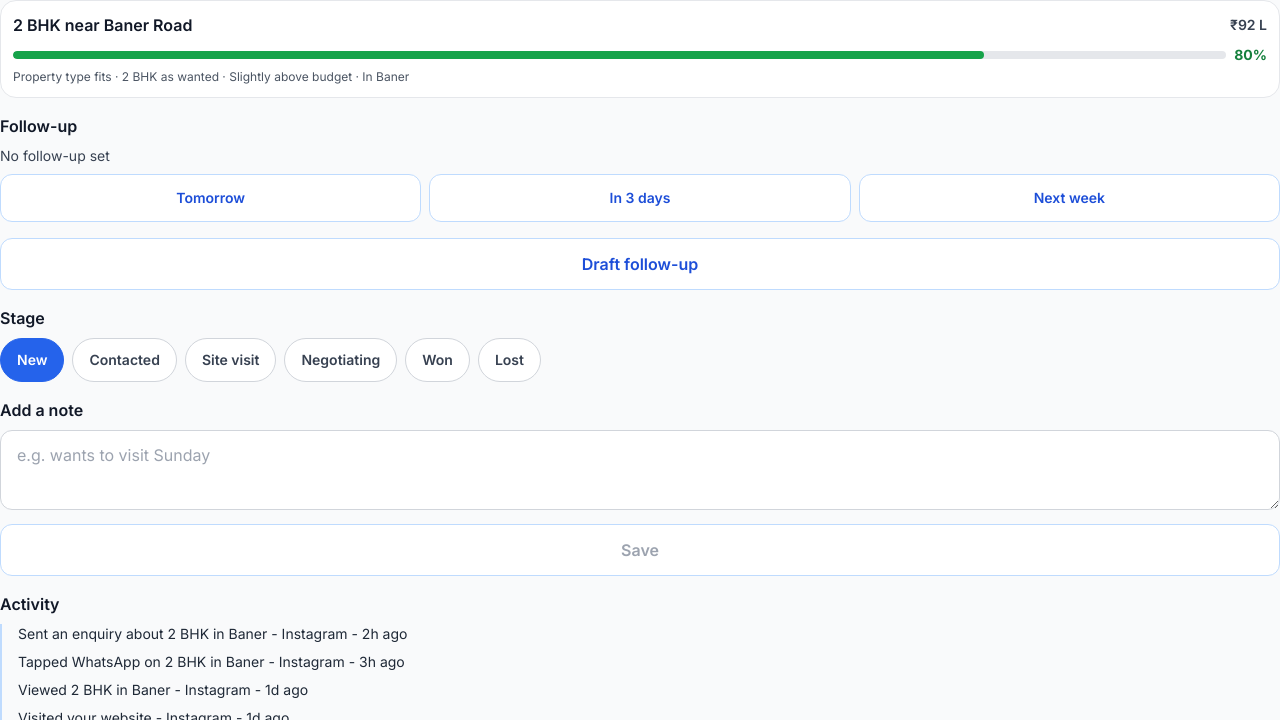
Test case: Deal closed sheet (stage Won) › dismissing (backdrop, Escape) does not change the stage
The image size is (1280, 720).
(page scrolled)
Click the button "Won" at (438, 360), box [405, 338, 470, 382]
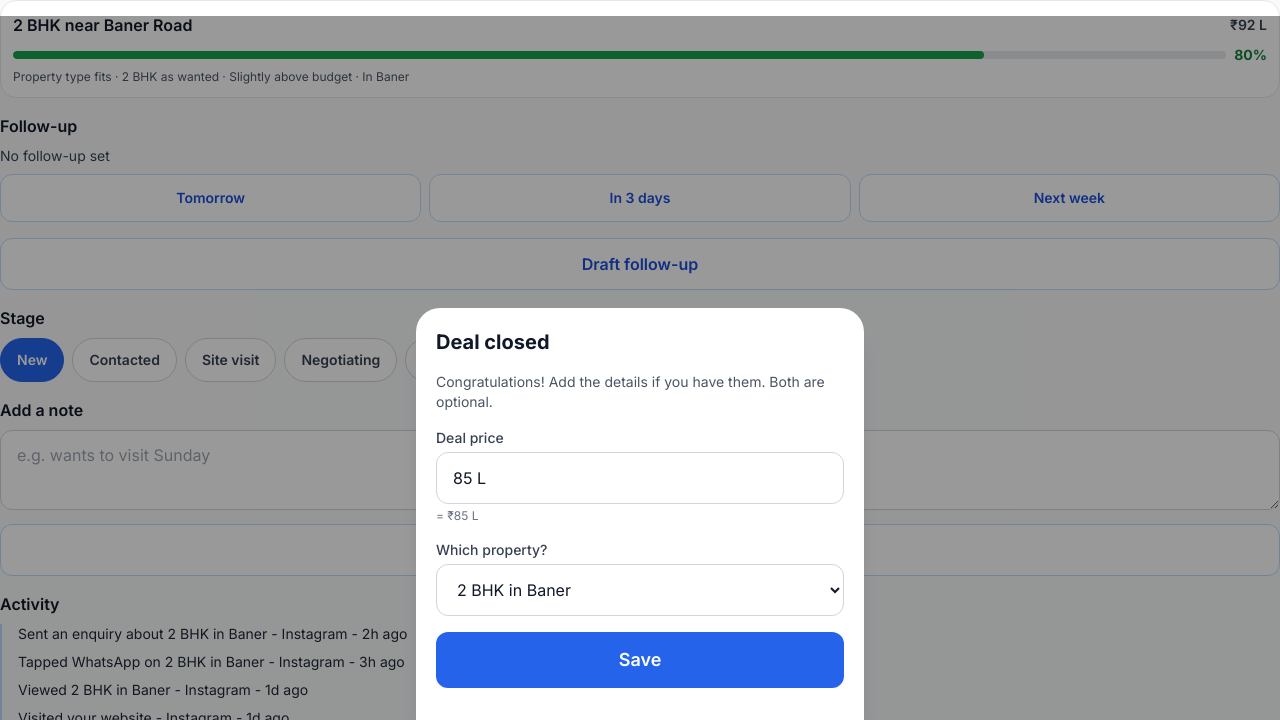
Click the button with test id "sheet-backdrop" at (77, 368), box [0, 16, 1279, 719]
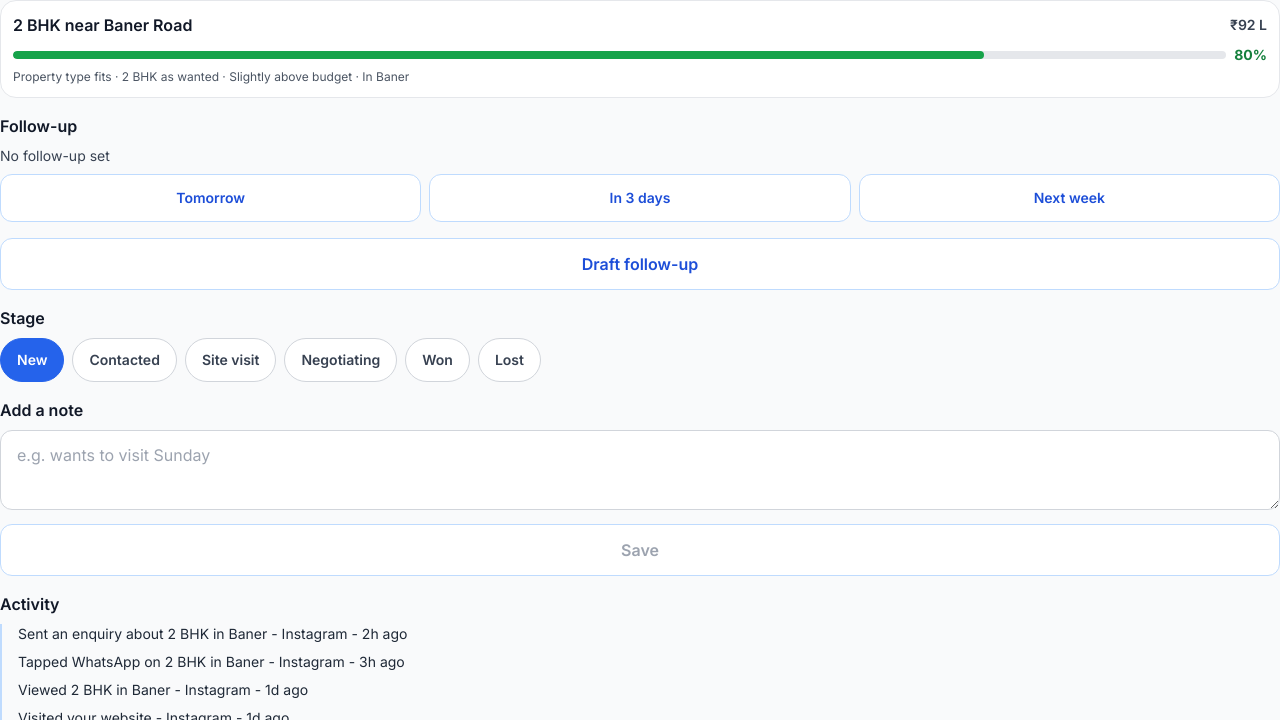
expect the button "New" is shown: met, box [0, 338, 64, 382]
expect the dialog is gone: met
Click the button "Won" at (438, 360), box [405, 338, 470, 382]
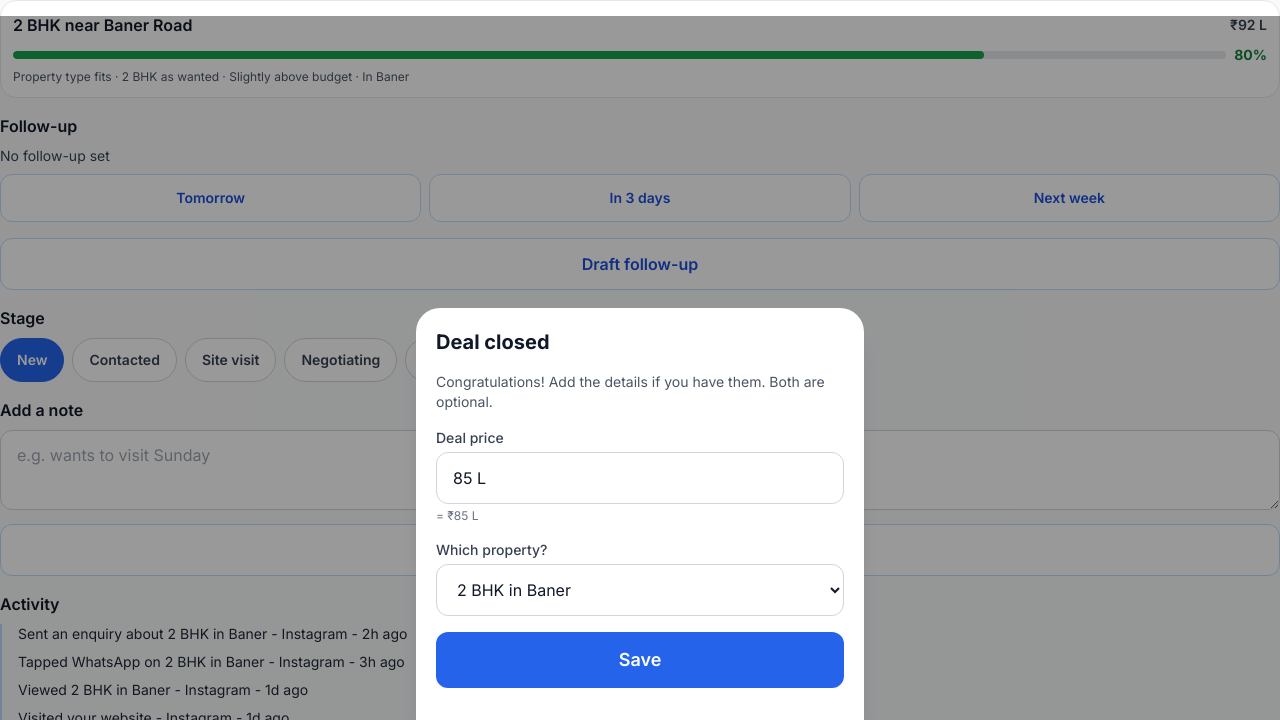
Press Escape
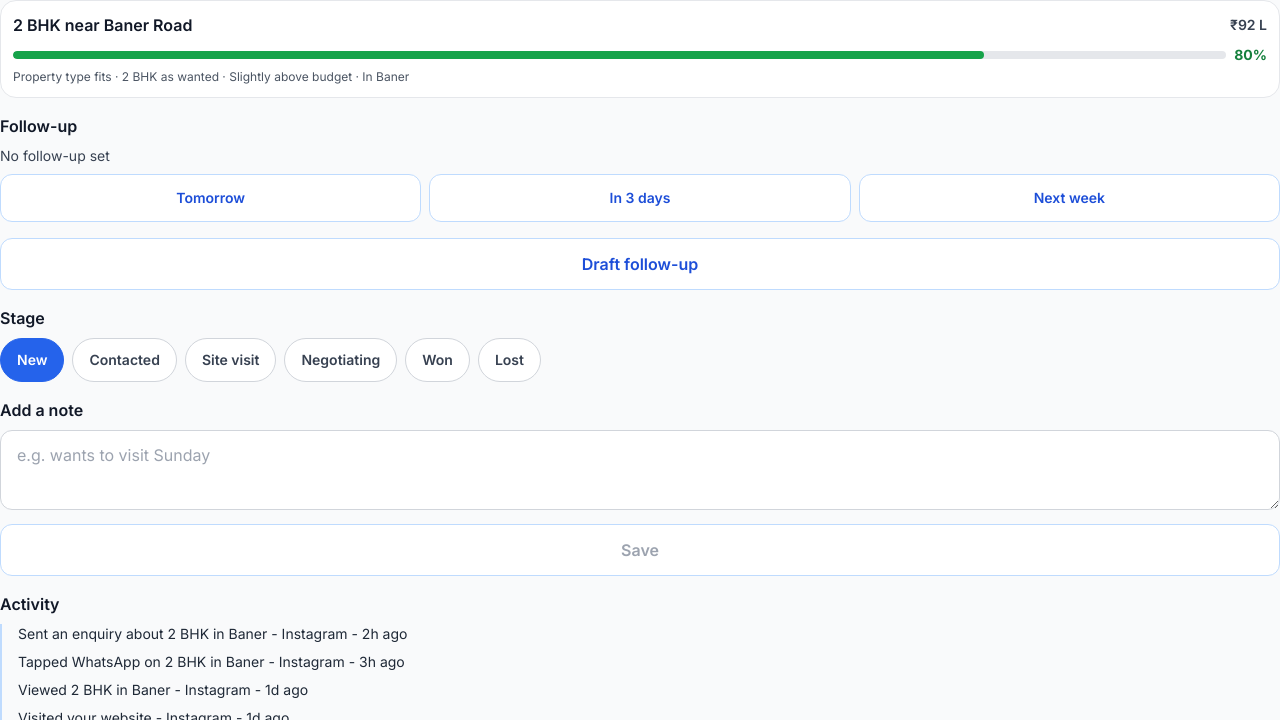
expect the dialog is gone: met
